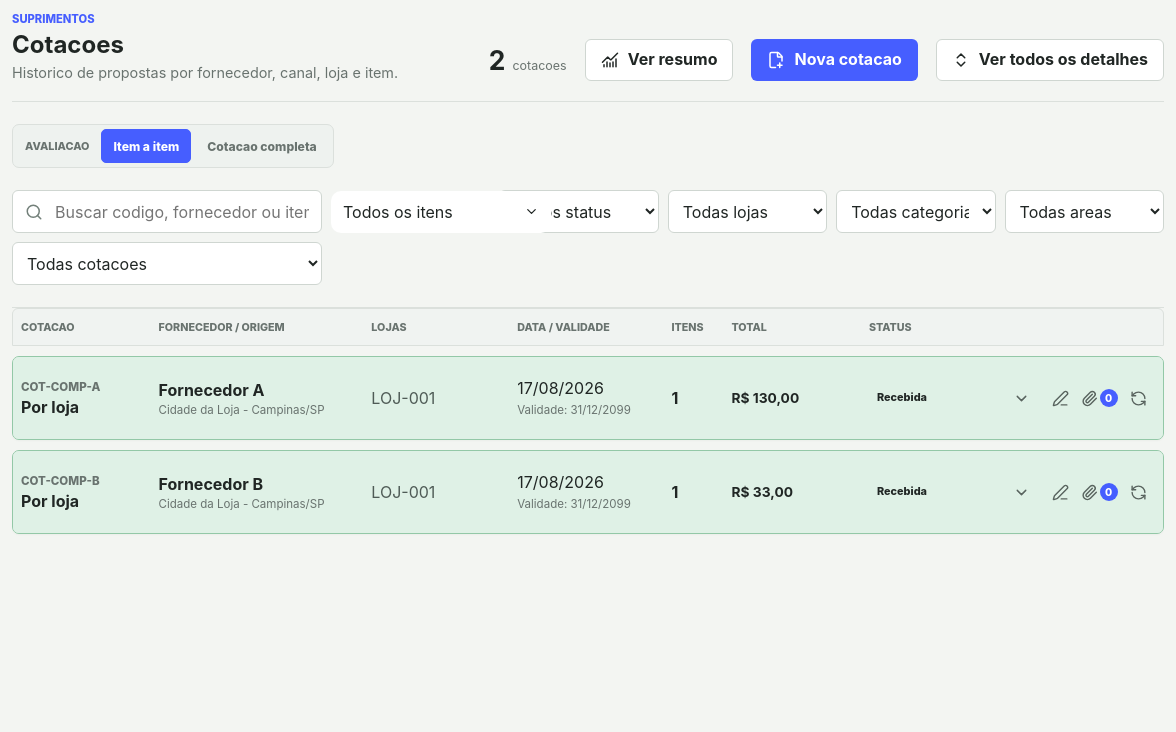
Test case: SupplyQuotesPage › mostra no detalhe expandido os destaques da comparacao entre cotacoes recebidas
The image size is (1176, 732).
Expected: the text "COT-COMP-A" is shown, x1=21 y1=380 x2=100 y2=394
Click the button named "Detalhar COT-COMP-A".
click(1021, 398)  # box x1=1004 y1=381 x2=1038 y2=415
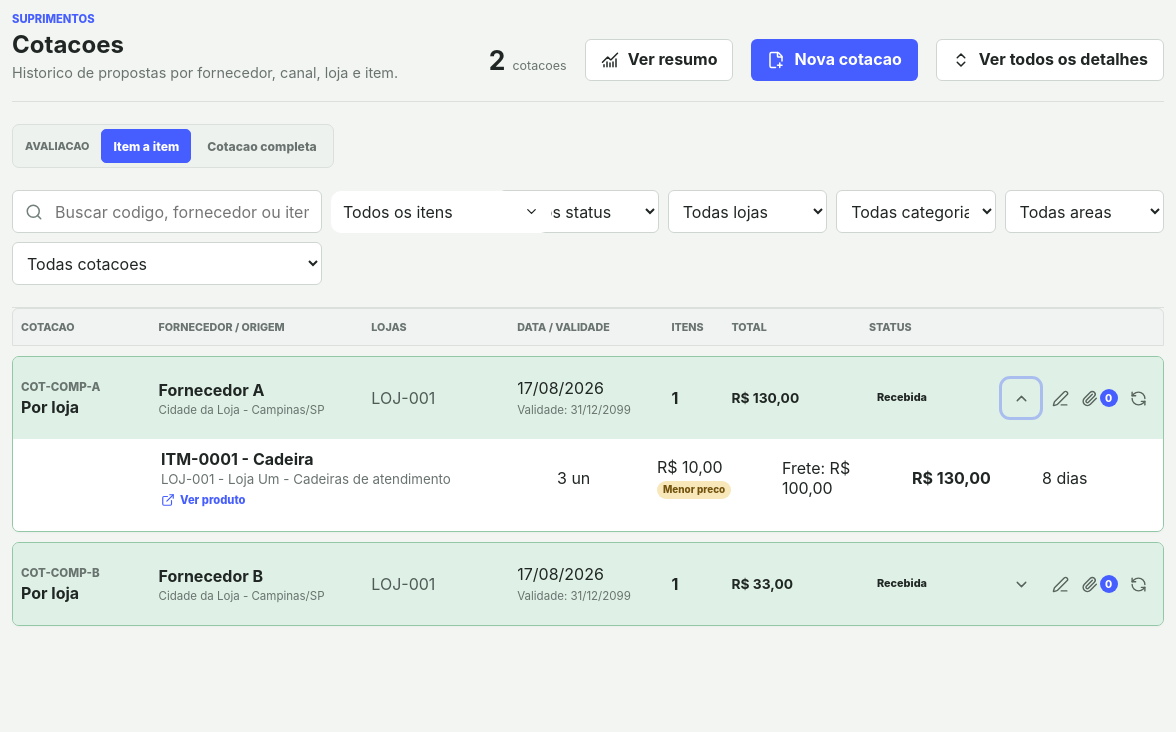
Expected: the text "Menor custo" is not shown
Result: the text "Menor preco" is shown at x1=657 y1=481 x2=731 y2=499
Click the button named "Detalhar COT-COMP-B".
click(1021, 584)  # box x1=1004 y1=567 x2=1038 y2=601
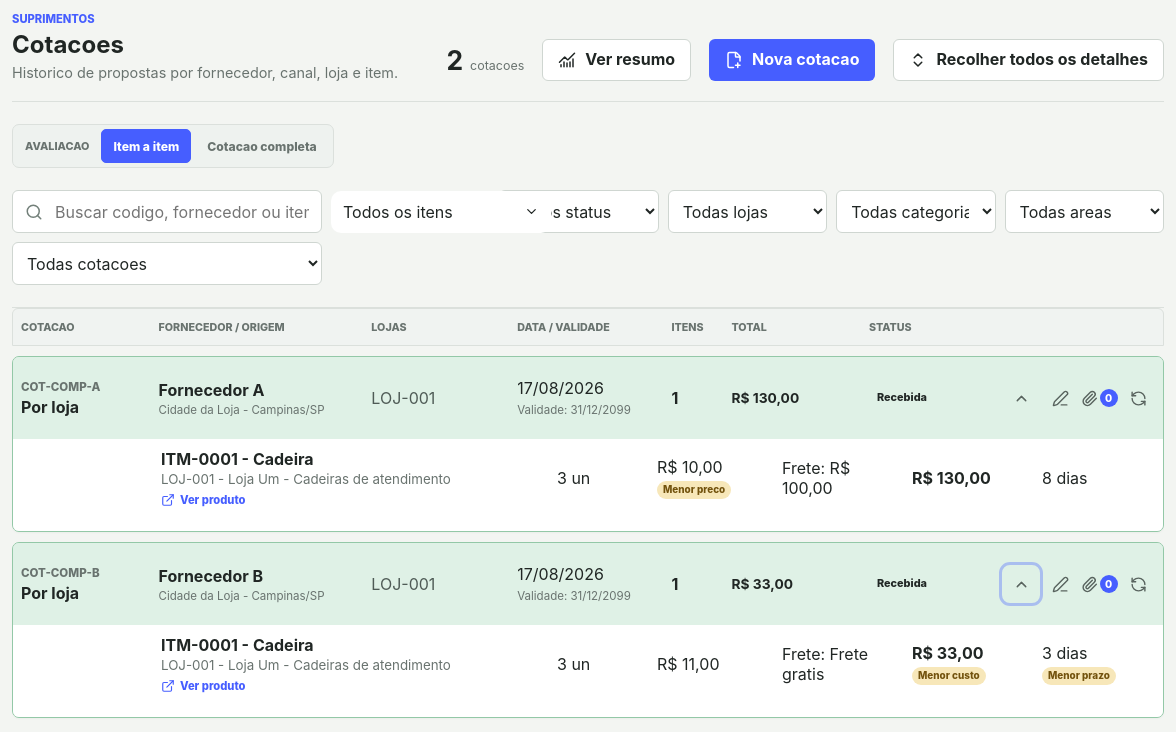
Result: the text "Menor custo" is shown at x1=912 y1=667 x2=986 y2=685
Result: the text "Menor prazo" is shown at x1=1042 y1=667 x2=1116 y2=685
